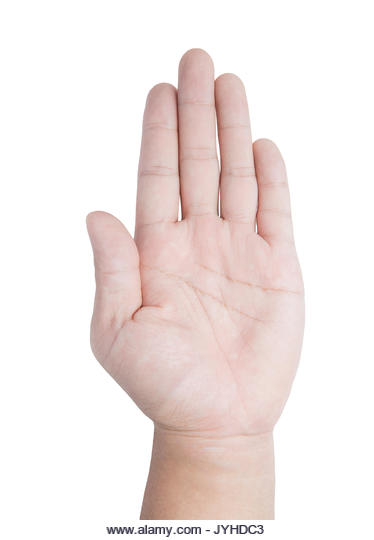non-diseased: (78, 46, 314, 448)
